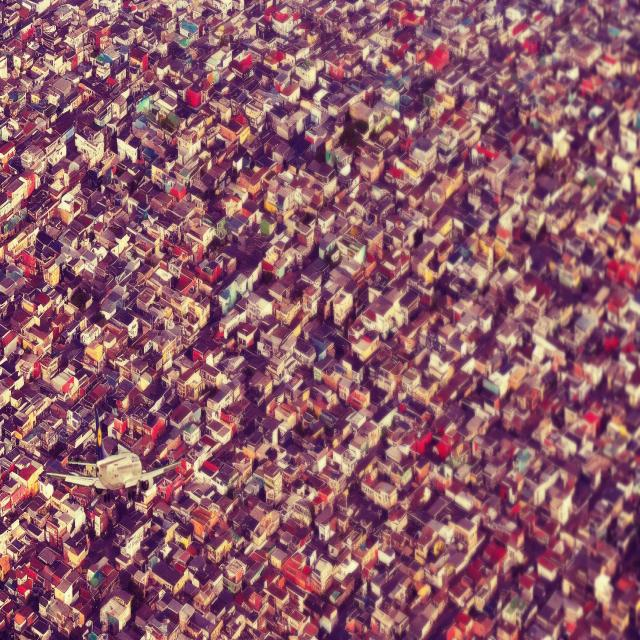airplane: (43, 404, 185, 510)
